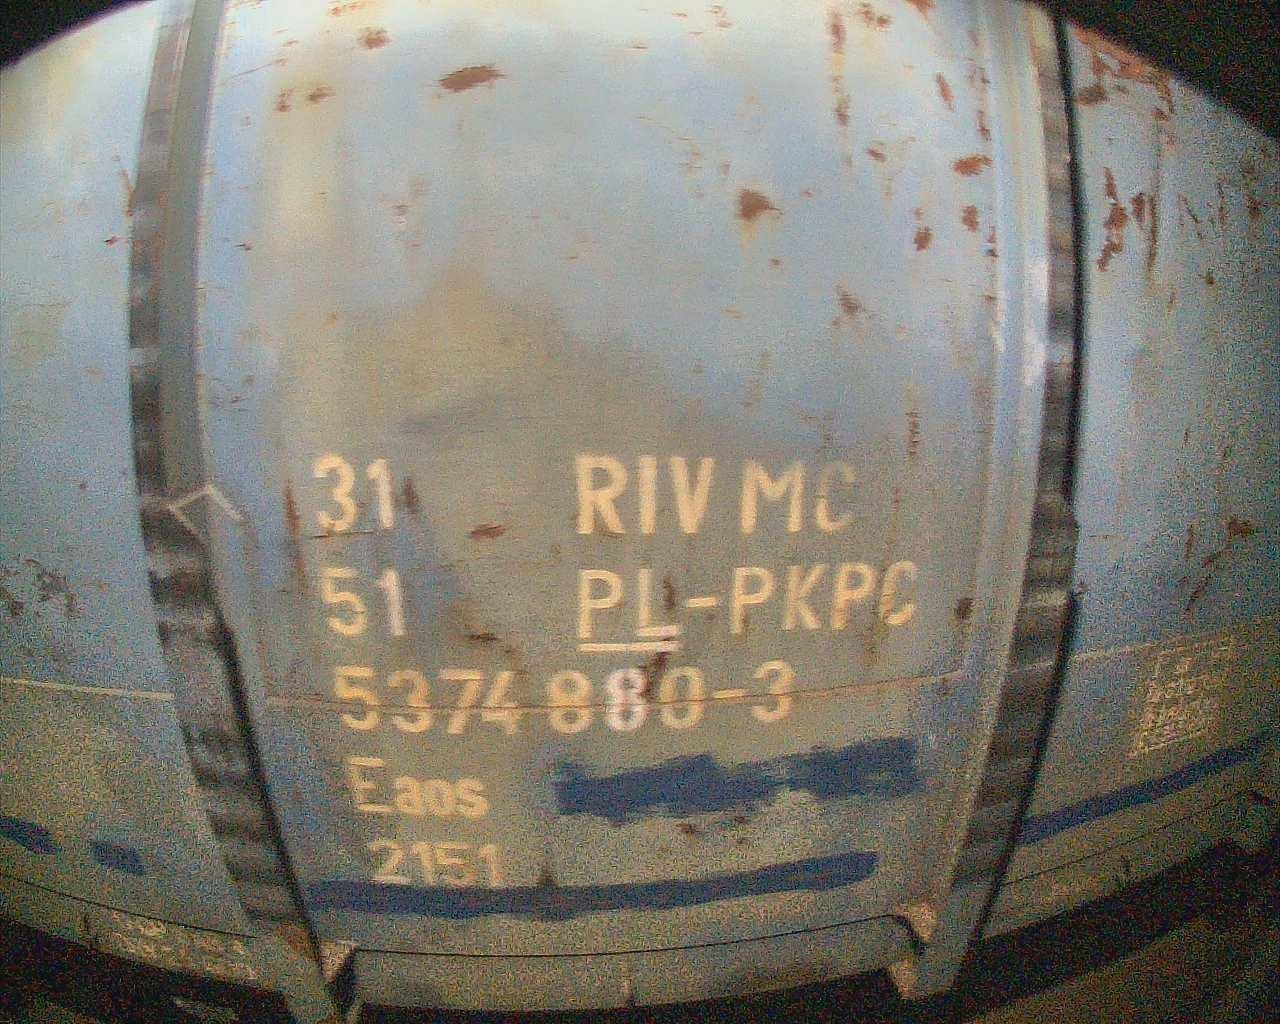UIC: (304, 447, 922, 894)
